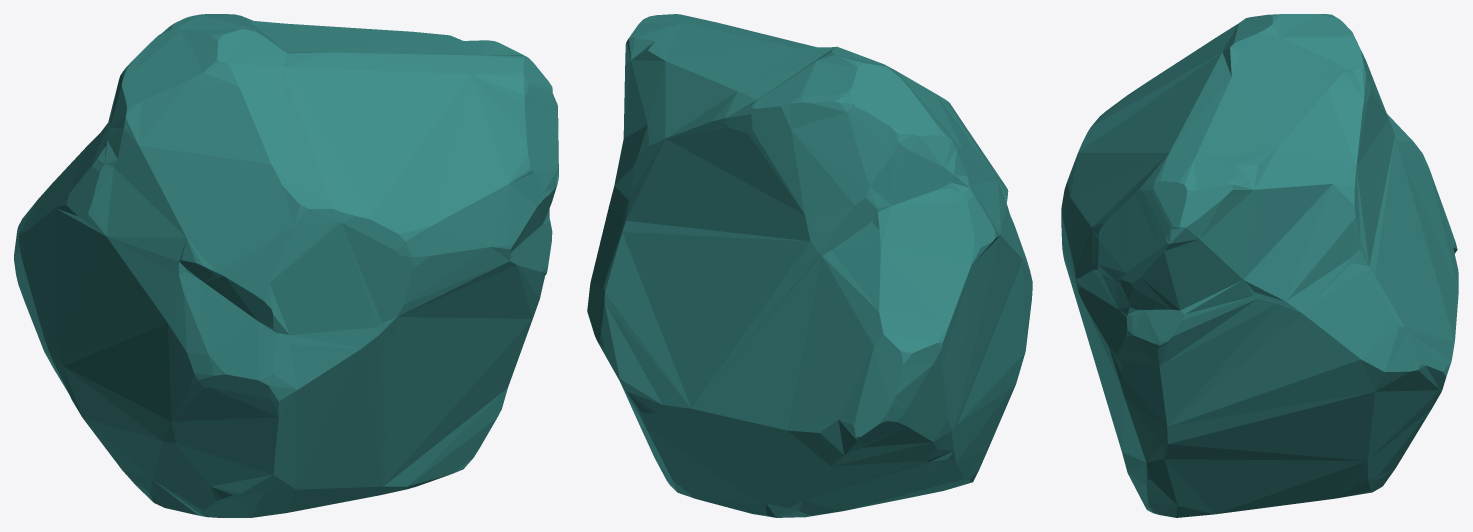
Rendered from SM_Rock_Sea_Big_Round_A.fbx.
3 views of the same model, side by side, from view 1: azimuth 30°, elevation 25°; view 2: azimuth 150°, elevation 25°; view 3: azimuth 270°, elevation 25° (orthographic). The views are drawn at different scales.
Visible parts, largest first — view 1: rock-sea-big-round-a; view 2: rock-sea-big-round-a; view 3: rock-sea-big-round-a.
Boxes of the visible parts, x1,y1,x2,y2 form: rock-sea-big-round-a: (14, 14, 558, 517); rock-sea-big-round-a: (587, 14, 1032, 517); rock-sea-big-round-a: (1061, 14, 1458, 517).
Size of the model in its own units: 4.82 by 4.63 by 4.04.
